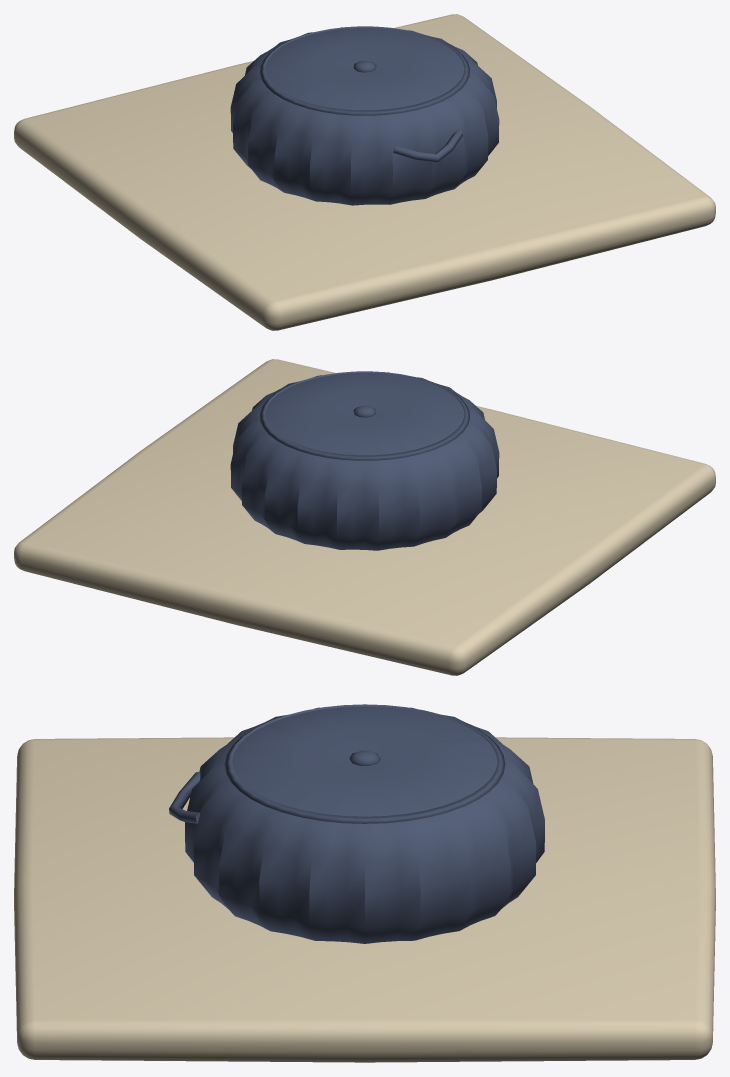
File: meditationCushion.glb
The picture shows the model from 3 angles, top to bottom: view 1: azimuth 30°, elevation 25°; view 2: azimuth 150°, elevation 25°; view 3: azimuth 270°, elevation 25°; orthographic projection. The views are drawn at different scales.
Parts seen in each view (by area): view 1: cushion; view 2: cushion; view 3: cushion.
Boxes of the visible parts, box(x1,y1,x2,y2) form: cushion: box(14, 14, 715, 330); cushion: box(14, 359, 715, 675); cushion: box(14, 704, 715, 1062).
Size of the model in its own units: 0.7 by 0.184 by 0.7.
